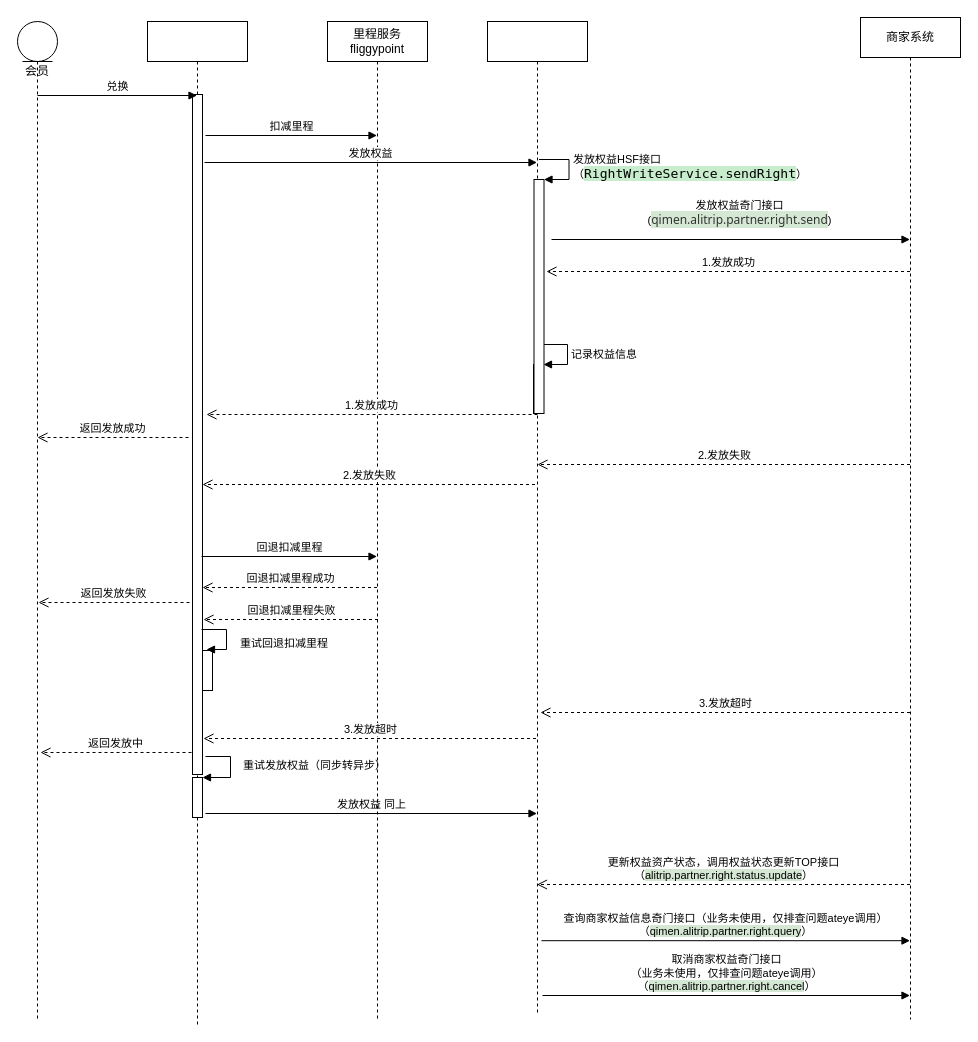
This 978x1042 diagram has some shape labels left out. The box of each missing label's shape, as (x1, y1, x2, y2) in pixels:
发奖服务 tripbp: (146, 20, 248, 1024)
权益服务 fliggyright: (486, 20, 588, 1016)
